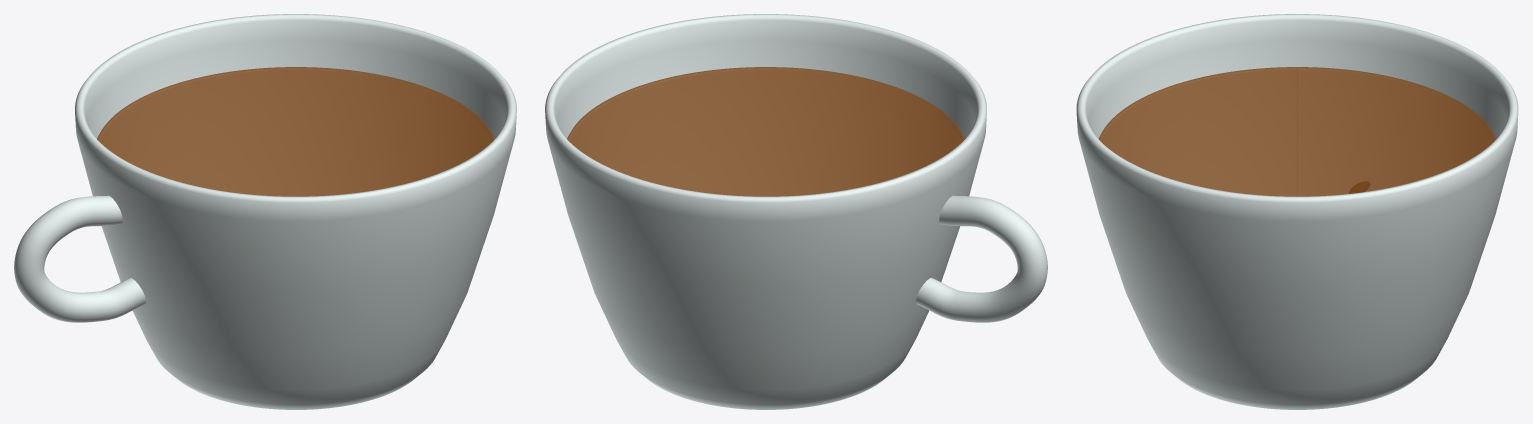
Rendered from shenyang-tea-original.glb.
3 renders of one model, left to right at view 1: azimuth 30°, elevation 25°; view 2: azimuth 150°, elevation 25°; view 3: azimuth 270°, elevation 25°, orthographic.
Parts seen in each view (by area): view 1: shenyang-tea; view 2: shenyang-tea; view 3: shenyang-tea.
Boxes of the visible parts, box(x1,y1,x2,y2) form: shenyang-tea: box(14, 14, 516, 409); shenyang-tea: box(545, 14, 1047, 409); shenyang-tea: box(1076, 14, 1518, 409).
Size of the model in its own units: 0.1212 by 0.0616 by 0.0985.
